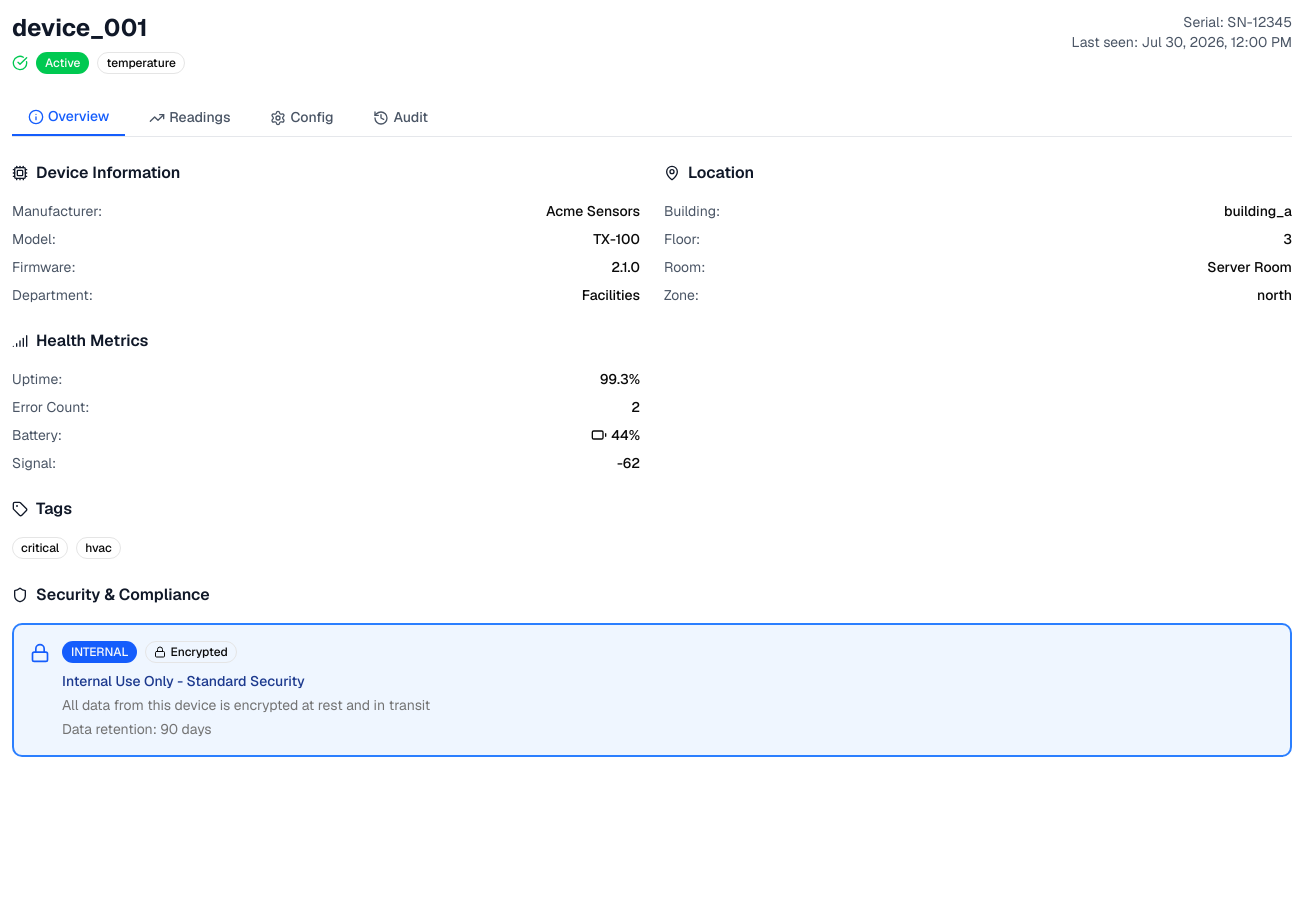
DeviceDetailView › should show thresholds on the config tab
Click the button "Config".
click(302, 117)  # box [254,98,349,136]
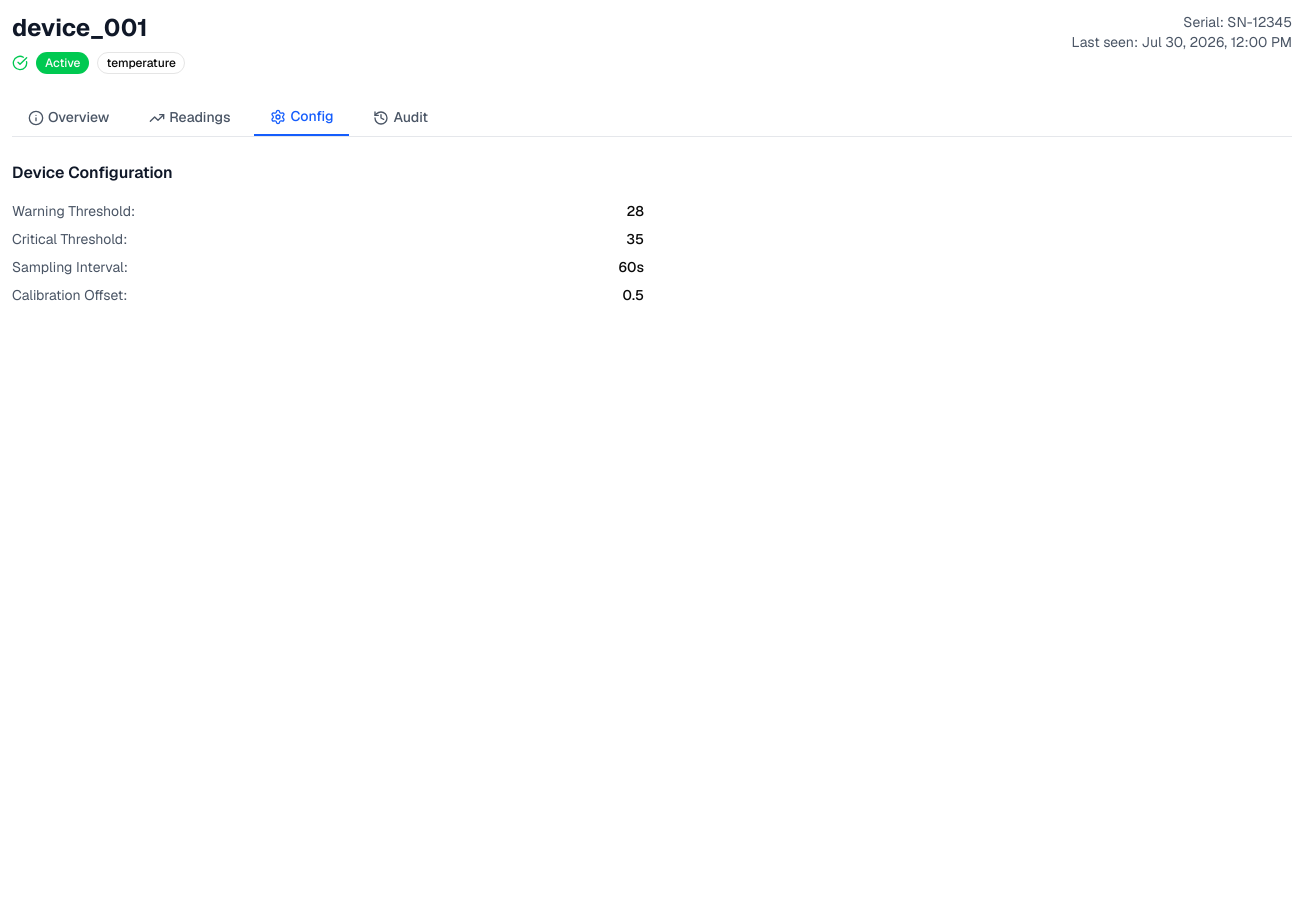
Now the text "Warning Threshold:" is shown, box [12,201,135,221]
Now the text "28" is shown, box [626,201,644,221]
Now the text "60s" is shown, box [619,257,644,277]
